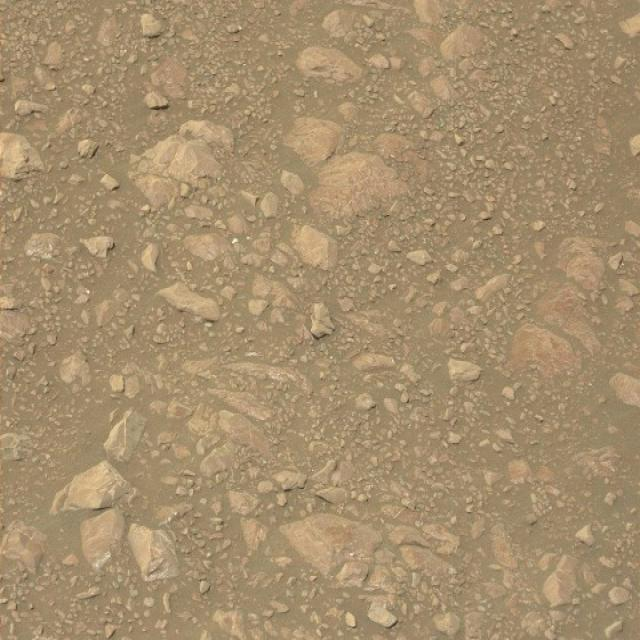rock: (0, 132, 44, 180), (307, 300, 337, 342)
